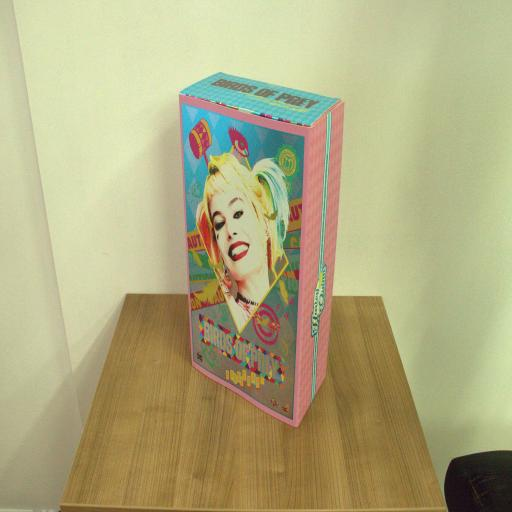Harley: (180, 72, 342, 426)
